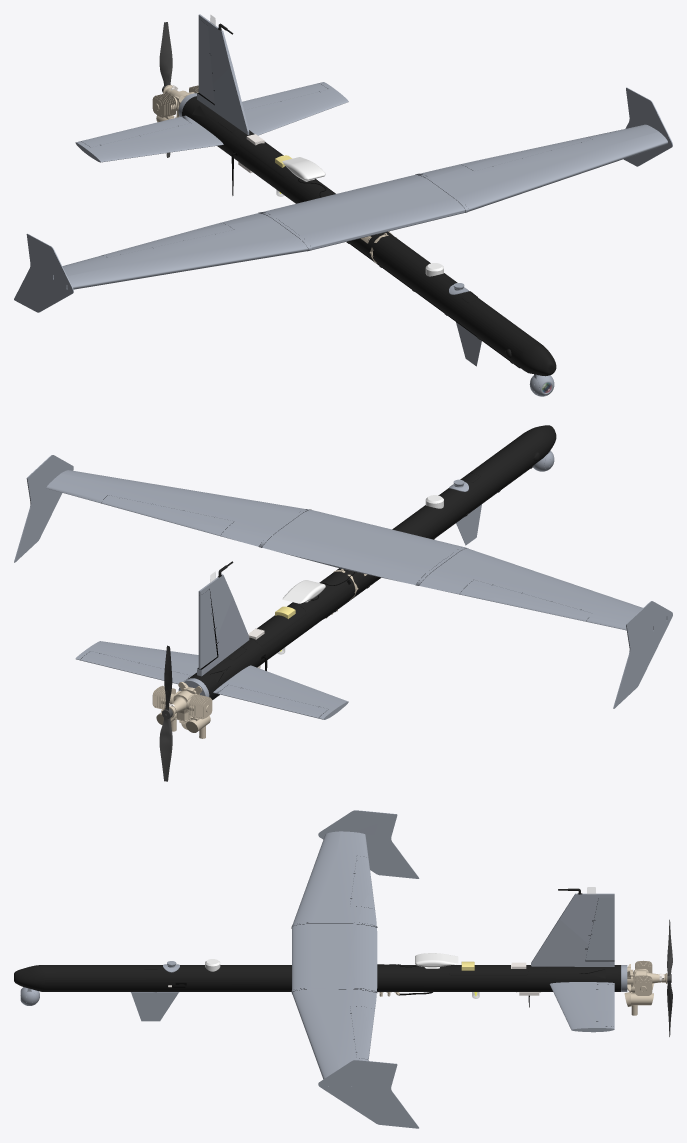
File: baykar_sivrisinek.glb
3 renders of one model, top to bottom at view 1: azimuth 30°, elevation 25°; view 2: azimuth 150°, elevation 25°; view 3: azimuth 270°, elevation 25°, orthographic. The views are drawn at different scales.
Parts seen in each view (by area): view 1: SivriSinekIhaV2_Govde, SivriSinekIhaV2_Pervane; view 2: SivriSinekIhaV2_Govde, SivriSinekIhaV2_Pervane; view 3: SivriSinekIhaV2_Govde, SivriSinekIhaV2_Pervane.
Boxes of the visible parts, x1,y1,x2,y2 form: SivriSinekIhaV2_Govde: (14,14,672,396); SivriSinekIhaV2_Pervane: (159,22,172,157); SivriSinekIhaV2_Govde: (14,425,672,738); SivriSinekIhaV2_Pervane: (159,645,172,781); SivriSinekIhaV2_Govde: (14,810,667,1128); SivriSinekIhaV2_Pervane: (667,919,672,1036).
Bounding box in the file's own units: 3.81 × 1.06 × 4.24.
Materials: 16 (1 with a texture image).
